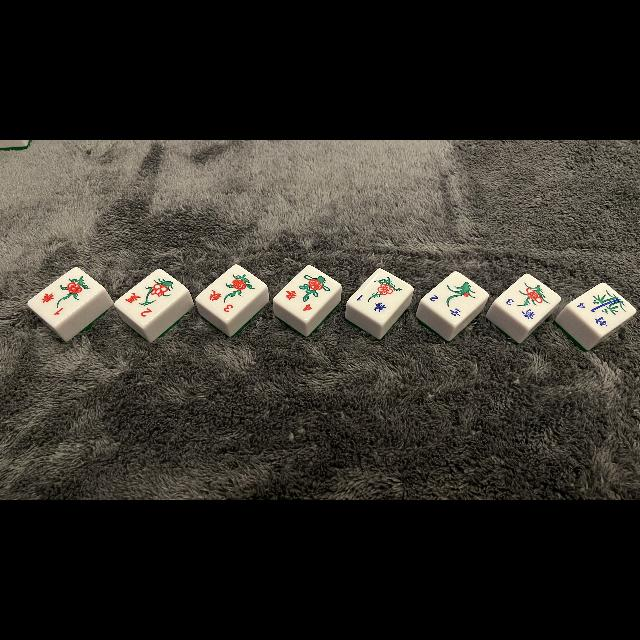f1: (353, 290, 389, 318)
f2: (427, 290, 463, 322)
f3: (502, 294, 536, 324)
f4: (573, 300, 609, 332)
s1: (37, 290, 69, 320)
s2: (120, 289, 158, 323)
s3: (208, 287, 236, 315)
s4: (282, 286, 316, 314)
